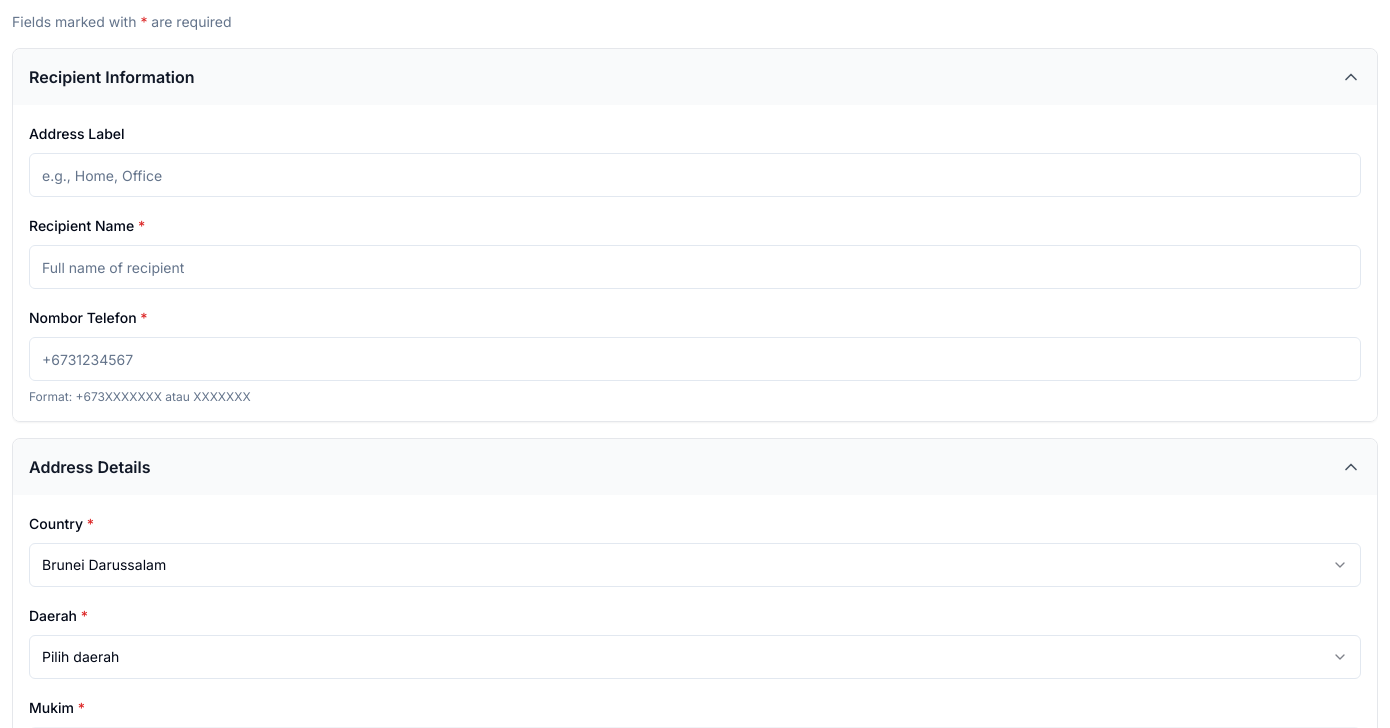
AddressForm - Validation and Error Handling › Real-time validation › should validate phone number on blur
# Enter invalid phone number
Type "invalid" into the field labelled "Nombor Telefon *" at point(695, 359), box [29,337,1361,381]
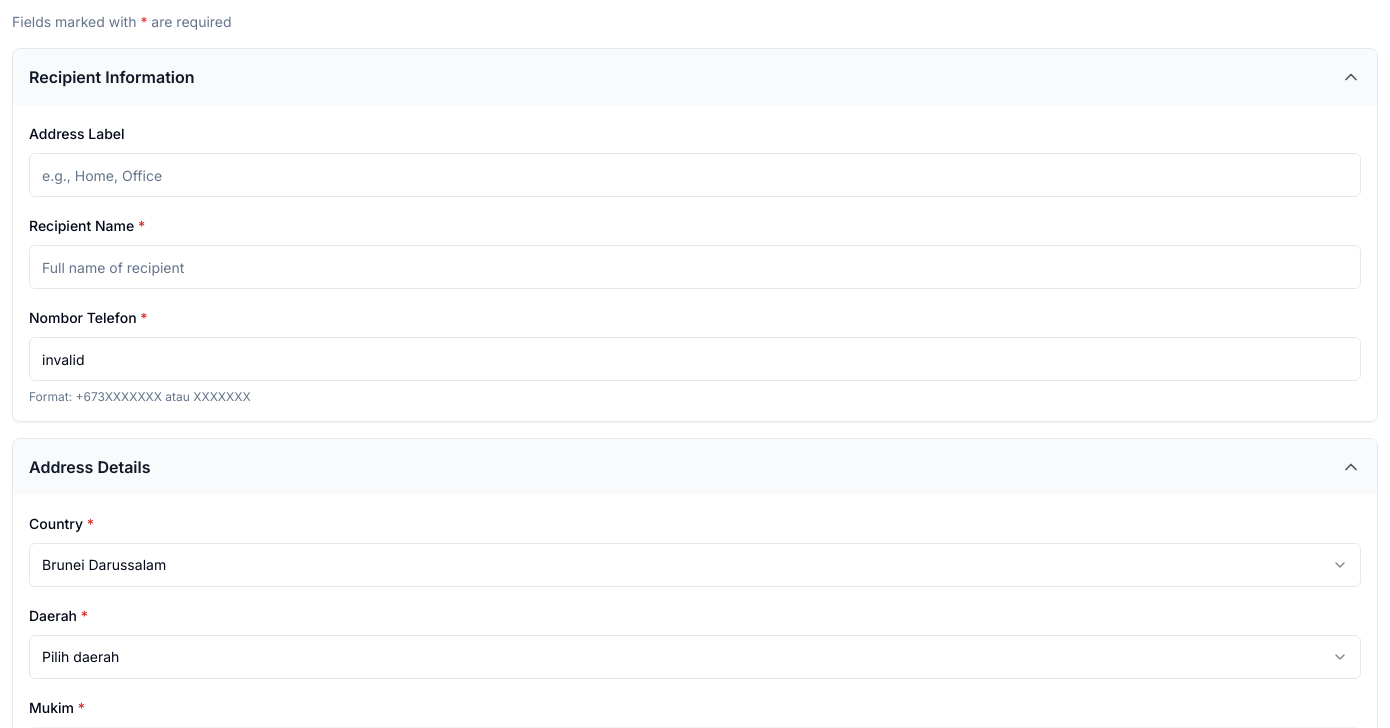
Leave the field labelled "Nombor Telefon *", box [29,337,1361,381]
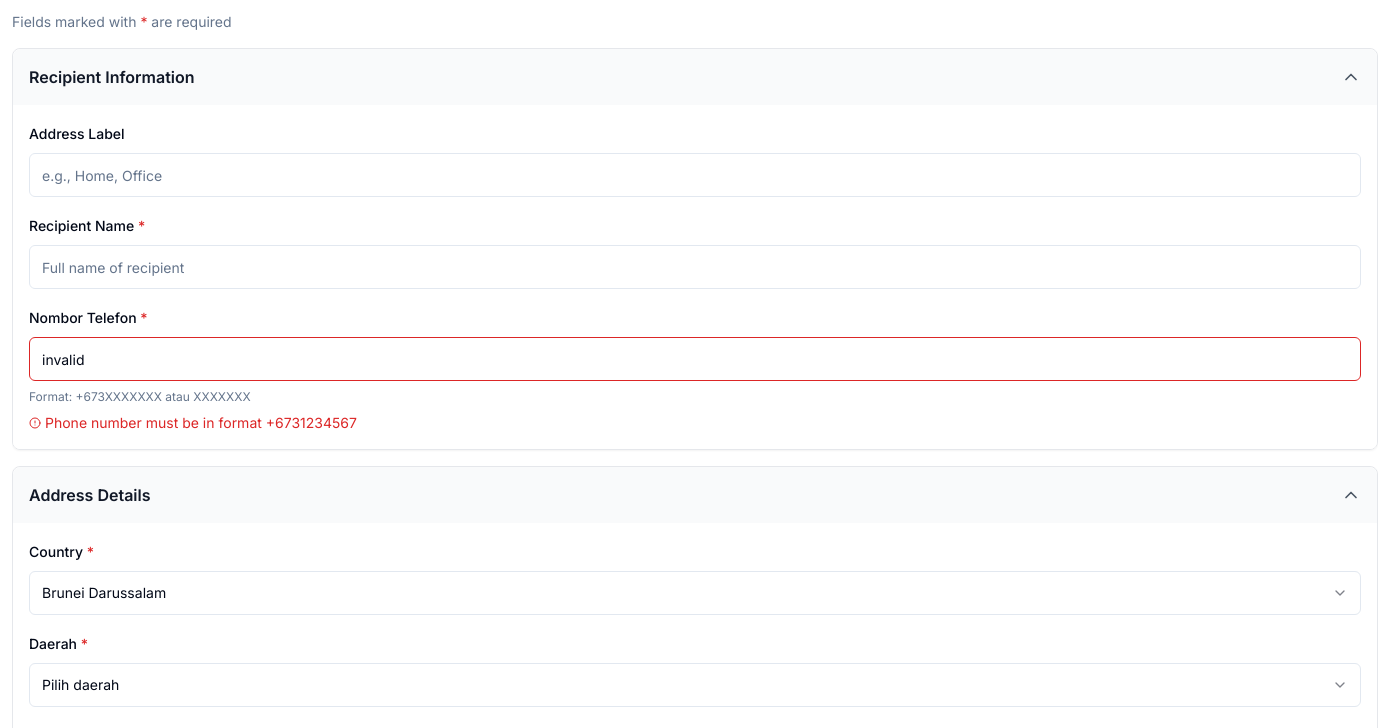
Now the text "Phone number must be in format +6731234567" is shown, box [29,414,357,431]
